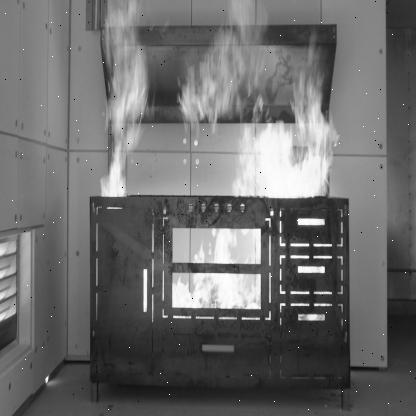fire: (78, 0, 341, 214), (167, 232, 263, 330)
